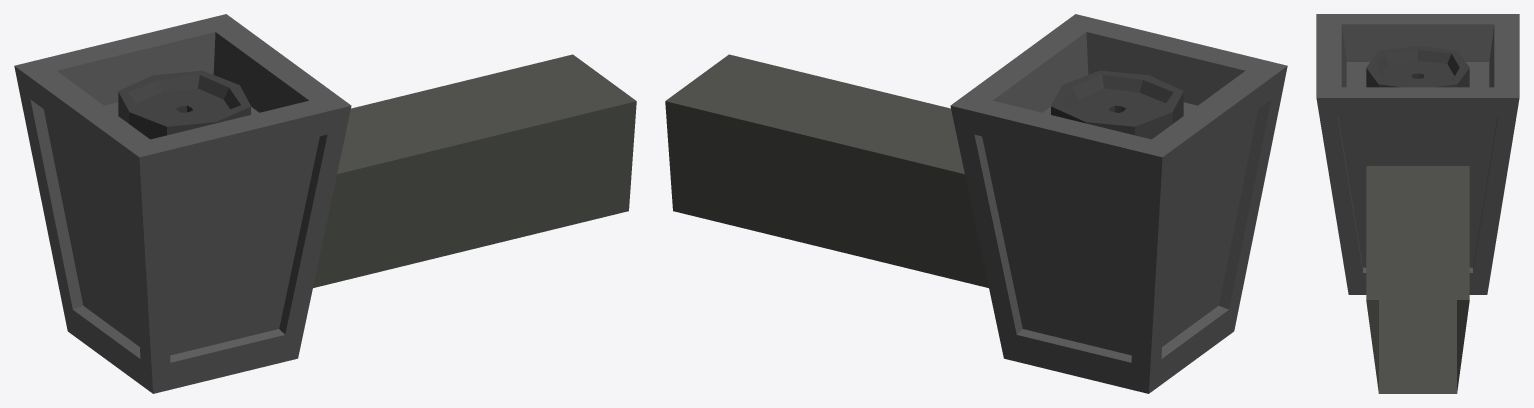
The model's file is 隧道灯.fbx.
3 views of the same model, side by side, from view 1: azimuth 30°, elevation 25°; view 2: azimuth 150°, elevation 25°; view 3: azimuth 270°, elevation 25° (orthographic). The views are drawn at different scales.
Visible parts, largest first — view 1: pCube4; view 2: pCube4; view 3: pCube4.
Part boxes in pixels (box(x1,y1,x2,y2)): pCube4: box(14, 14, 636, 393); pCube4: box(665, 14, 1287, 393); pCube4: box(1316, 14, 1519, 393).
Size of the model in its own units: 47.75 by 22.41 by 19.61.
